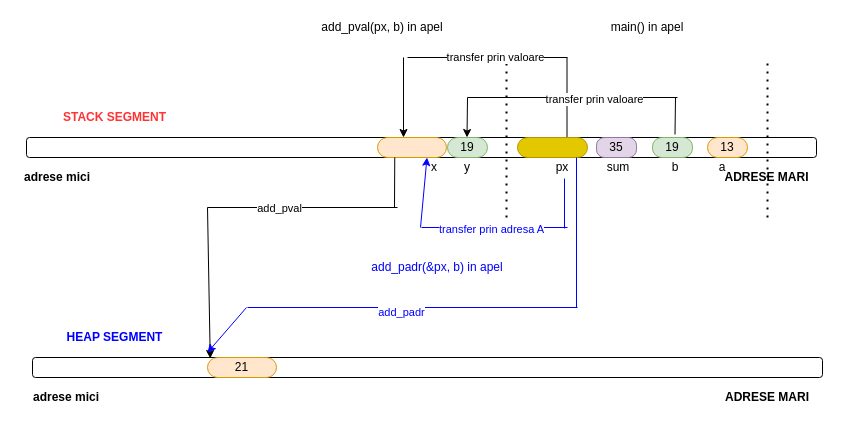
The diagram is 851 pixels wide and 424 high, and some of its shapes have lost their labels. Each missing label, with the centre of its shape:
AH / A: point 411,147
NULL / AH: point 552,147
